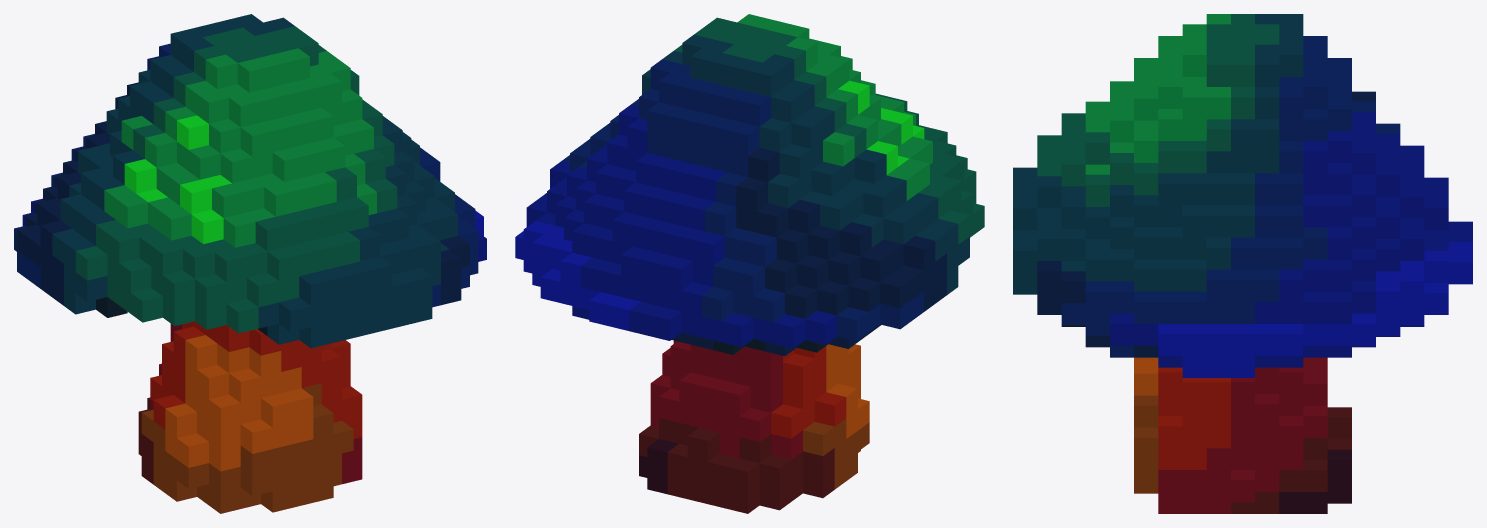
The model's file is overseer-mushroom-4-named-nodes.glb.
3 renders of one model, left to right at view 1: azimuth 30°, elevation 25°; view 2: azimuth 150°, elevation 25°; view 3: azimuth 270°, elevation 25°, orthographic. The views are drawn at different scales.
Parts seen in each view (by area): view 1: geometry_0; view 2: geometry_0; view 3: geometry_0.
Part boxes in pixels (x1,y1,x2,y2): geometry_0: [14, 14, 486, 513]; geometry_0: [515, 14, 984, 513]; geometry_0: [1013, 14, 1472, 513].
Bounding box in the file's own units: 0.6862 × 0.7223 × 0.6862.
Materials: 1 (1 with a texture image).
